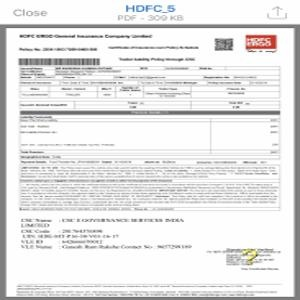image: (245, 34, 277, 50)
table: (20, 110, 281, 162), (19, 66, 281, 111)
text: (17, 166, 279, 209)
